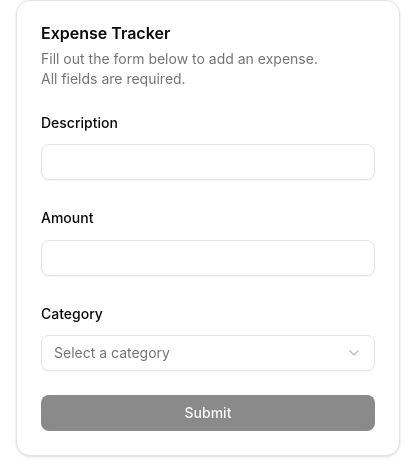
it: ExpenseTrackerForm › form display and validation › displays the list of categories
# Open select dropdown
Click the dropdown with test id "select-trigger-category".
click(112, 352)  # box [41,335,375,371]
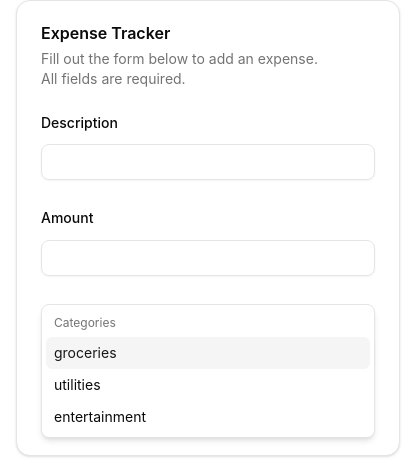
Expected: the option "groceries" is shown, [46,337,370,369]
Expected: the option "utilities" is shown, [54,376,101,393]
Expected: the option "entertainment" is shown, [54,408,146,425]
